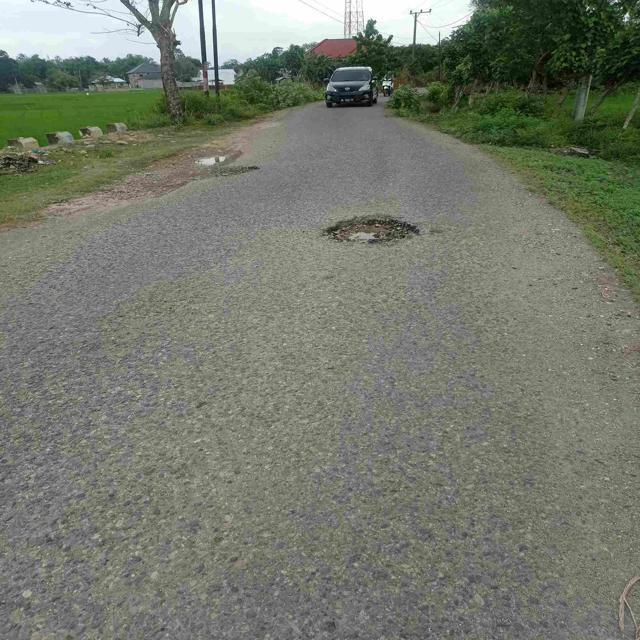Lubang: (328, 213, 433, 254)
